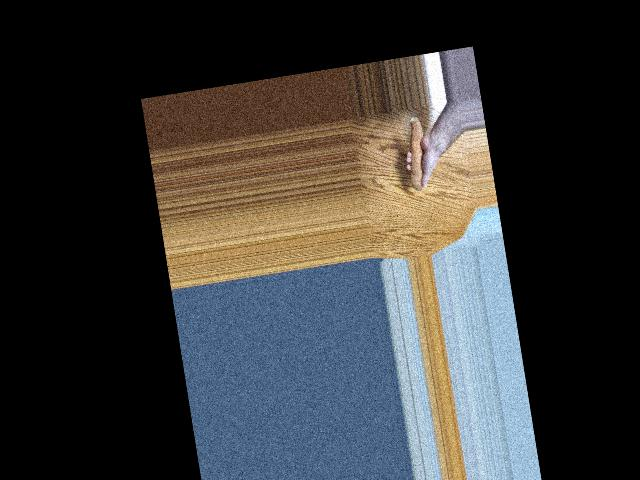sweet_potato: (398, 116, 433, 190)
